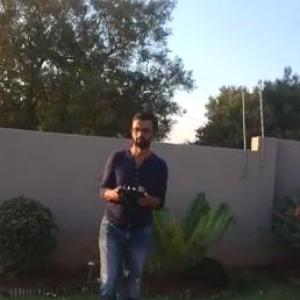follow: (94, 101, 174, 299)
